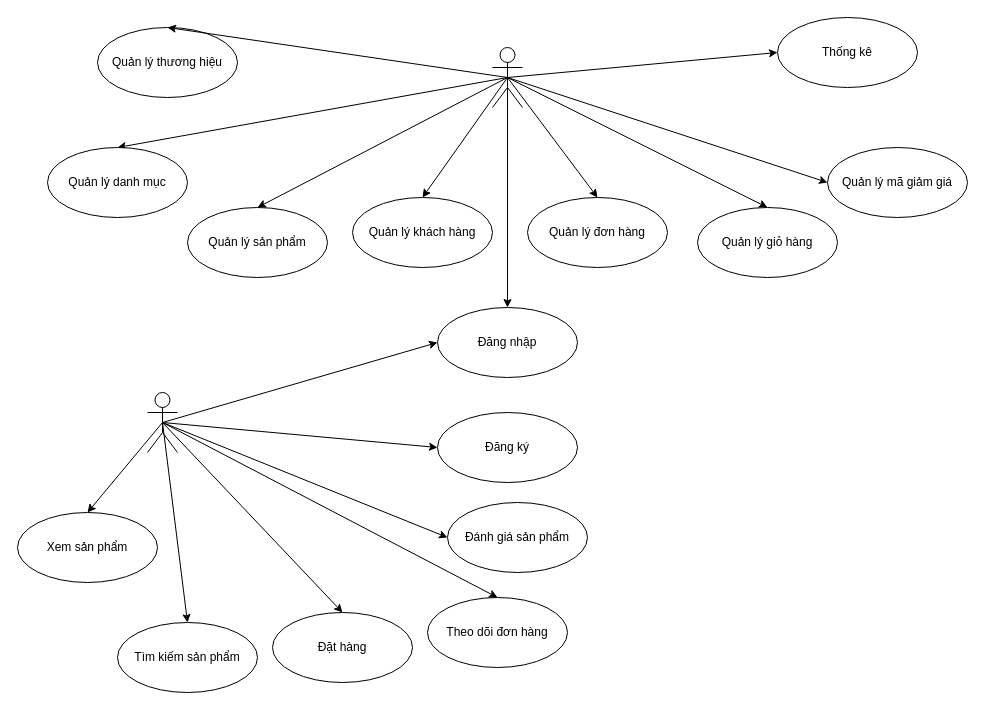
Some shapes in this 985 by 710 pixel diagram are drawn without their labels. The shapes that lost their labels are listed below. From the top down, each one's box as (x1, y1, x2, y2) in pixels, then its label:
(492, 46, 522, 108): Quản trị viên
(146, 392, 178, 452): Khách hàng
